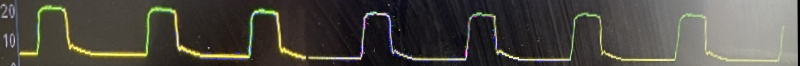normal_pressure: (7, 2, 786, 66)
